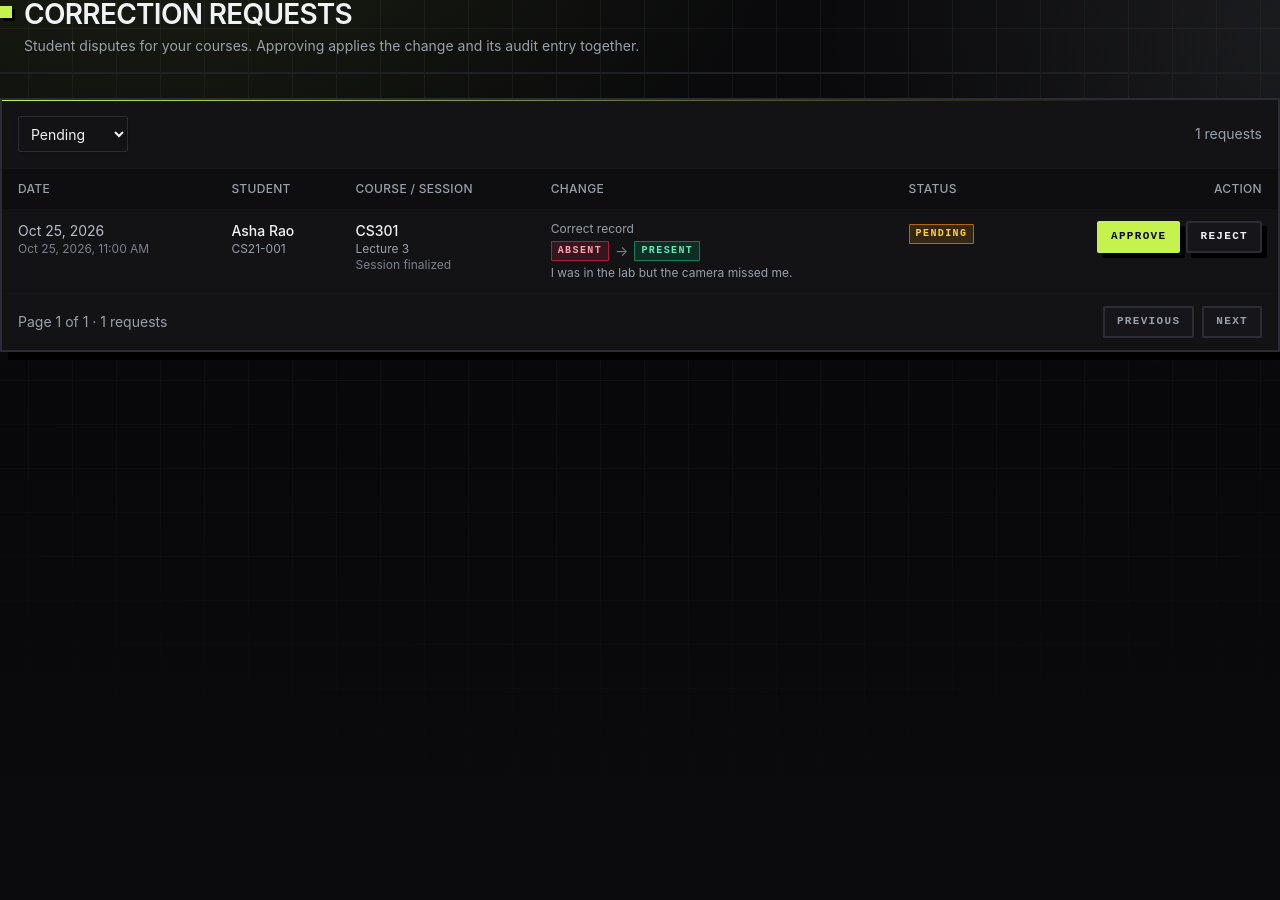
corrections page › lets faculty approve a pending request with a required note
The width and height of the screenshot is (1280, 900).
Expected: the text "Asha Rao" is shown, x1=231 y1=222 x2=294 y2=239
Click the button "Approve". click: (1139, 237)
box: x1=1097 y1=221 x2=1180 y2=253
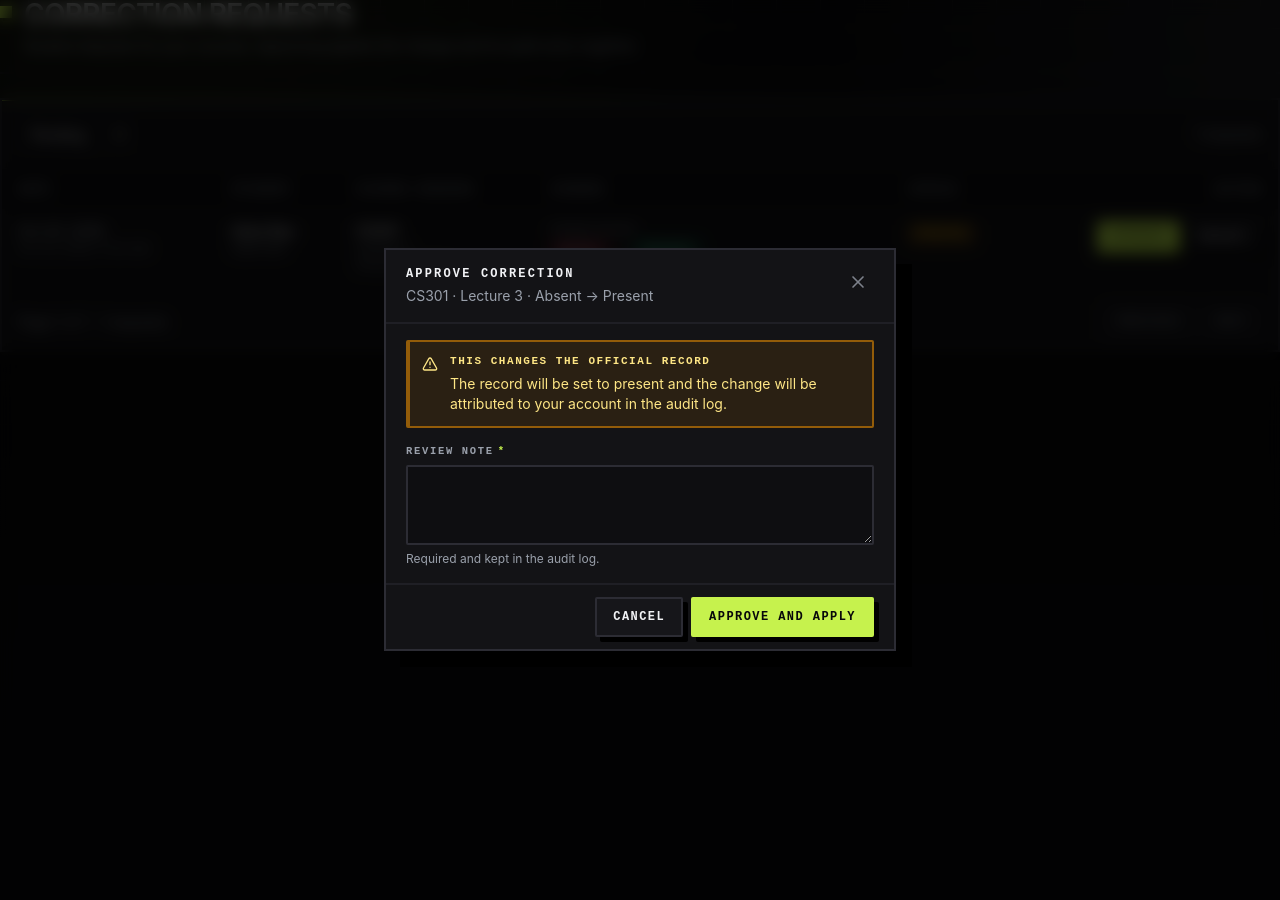
Type "Verified the lab sign-in sheet" into the text box labelled "Review note*". click: (640, 506)
box: x1=406 y1=466 x2=874 y2=546
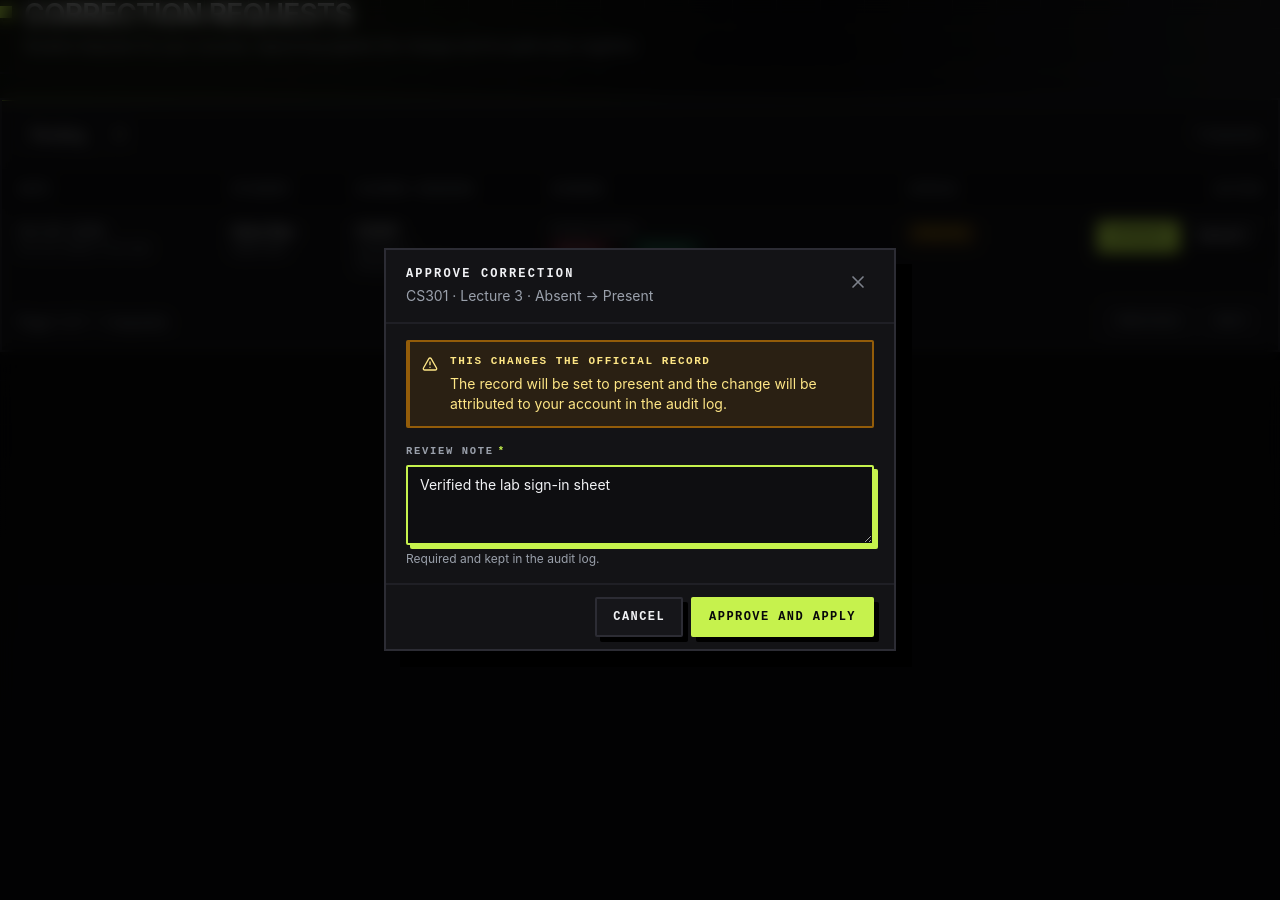
Click the button "Approve and apply". click: (783, 618)
box: x1=691 y1=598 x2=874 y2=638
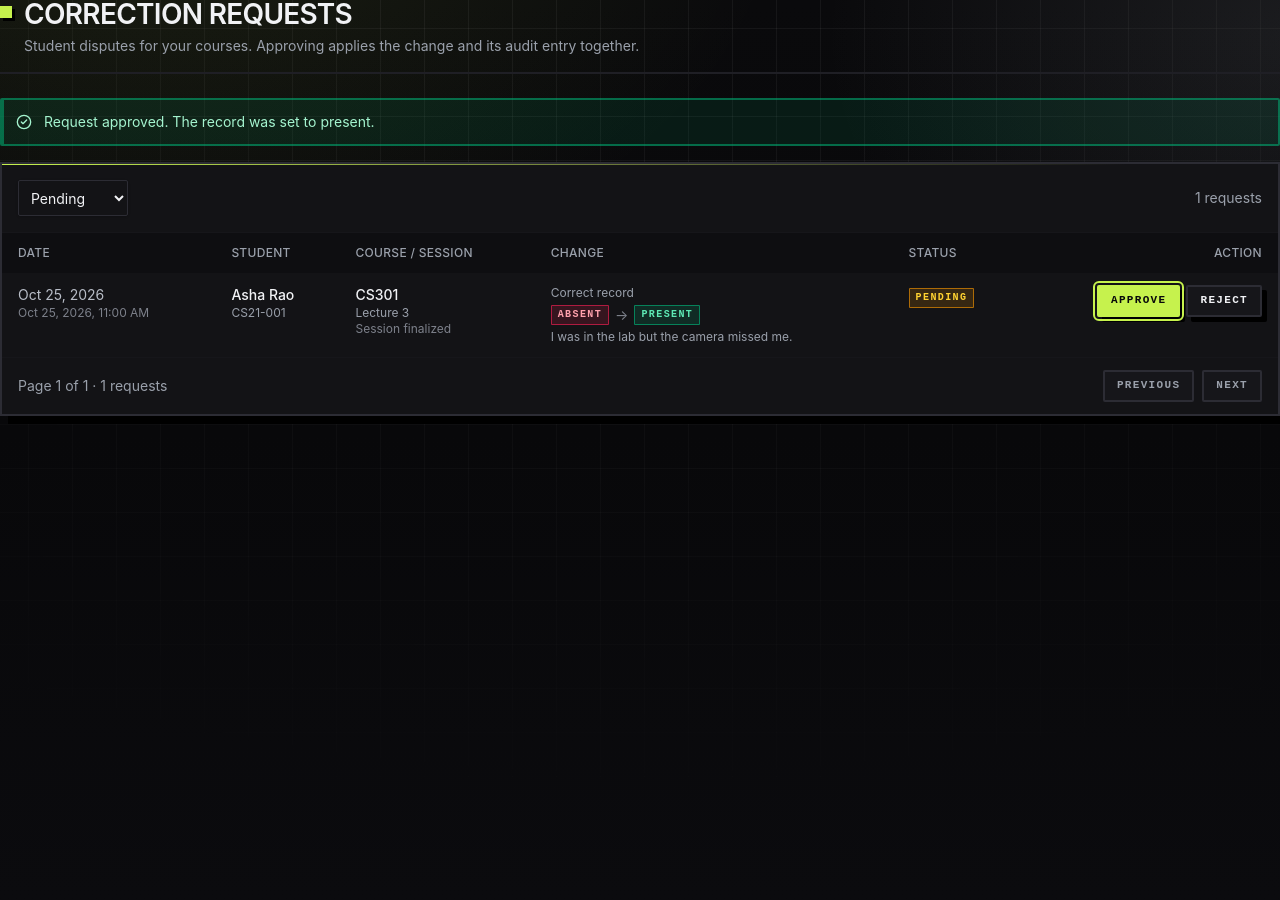
Expected: the text "Request approved. The record was set to present." is shown, x1=44 y1=112 x2=375 y2=132
